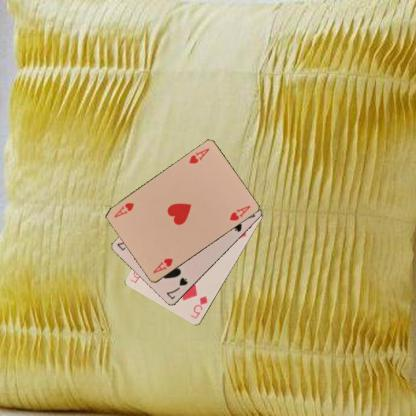5d: (187, 293, 208, 320)
7s: (163, 275, 189, 301)
Ah: (150, 256, 175, 275), (186, 146, 211, 165)
